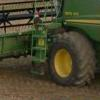Tractor: (24, 3, 100, 92)
